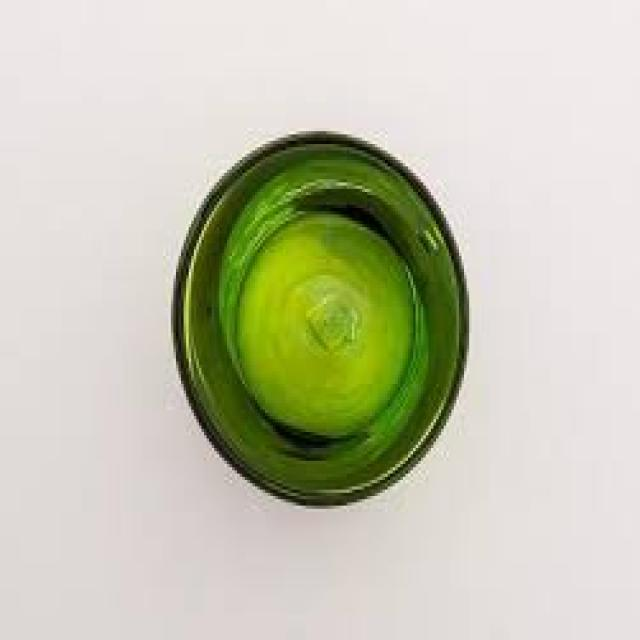glass: (168, 128, 467, 502)
